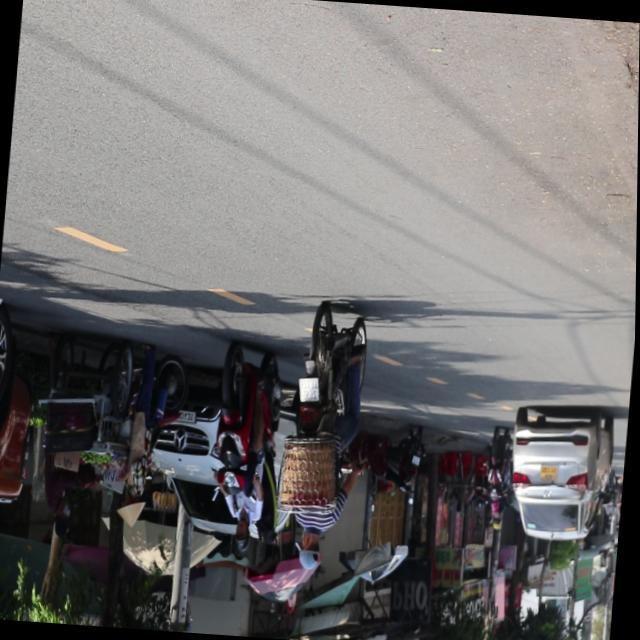helmet: (232, 518, 251, 553)
licenseplate: (273, 301, 374, 578), (204, 339, 289, 557)
motorcyclist: (295, 521, 324, 573)
nohelmet: (297, 376, 320, 401)
